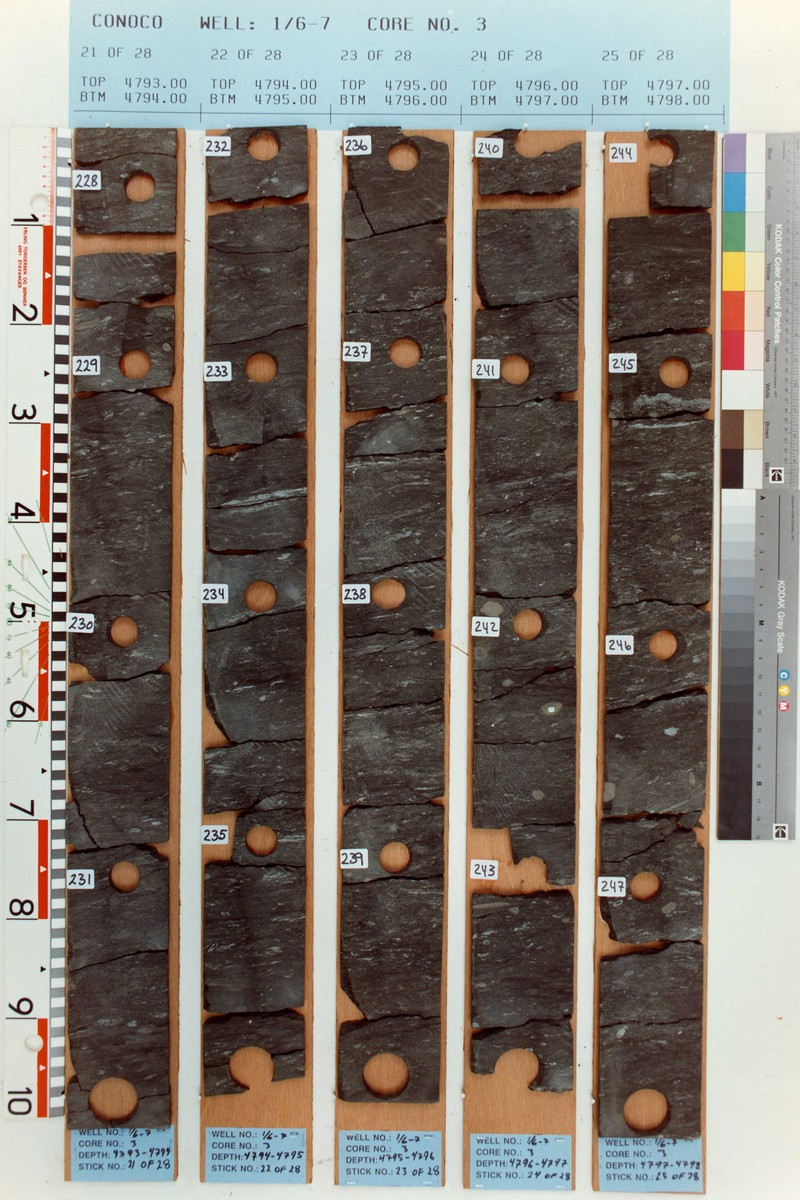core: (600, 130, 714, 1134), (68, 126, 174, 1126), (339, 125, 446, 1105), (472, 130, 581, 1092), (204, 126, 308, 1095)
